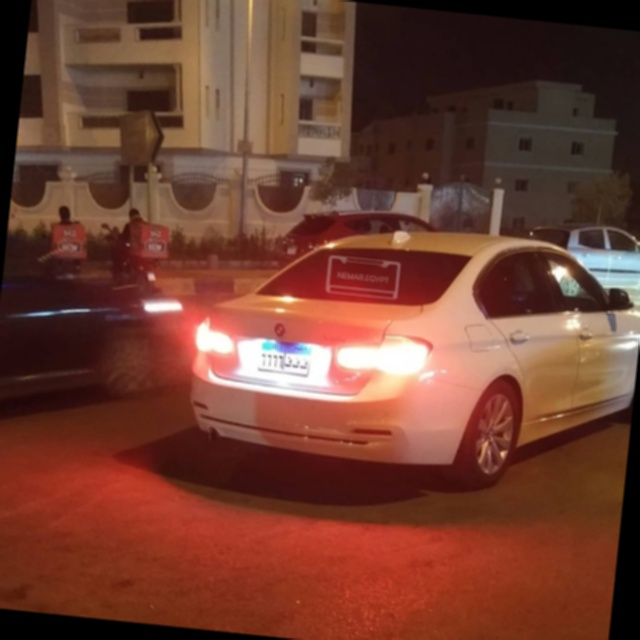License Plate: (254, 337, 314, 378)
